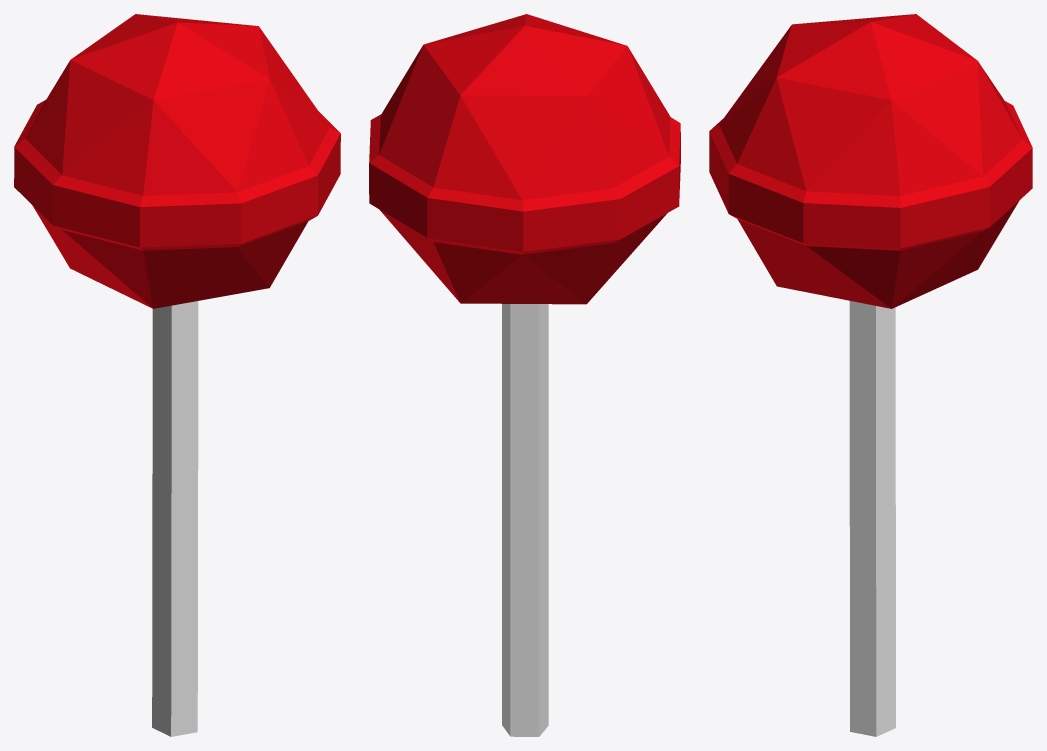
The model's file is lollipop_red.fbx.
The picture shows the model from 3 angles, left to right: view 1: azimuth 30°, elevation 25°; view 2: azimuth 150°, elevation 25°; view 3: azimuth 270°, elevation 25°; orthographic projection.
Visible parts, largest first — view 1: lollipop_red; view 2: lollipop_red; view 3: lollipop_red.
Boxes of the visible parts, x1=… form: lollipop_red: x1=14, y1=14, x2=340, y2=736; lollipop_red: x1=369, y1=14, x2=680, y2=736; lollipop_red: x1=709, y1=14, x2=1032, y2=736.
Bounding box in the file's own units: 3.41 × 8.22 × 3.42.
